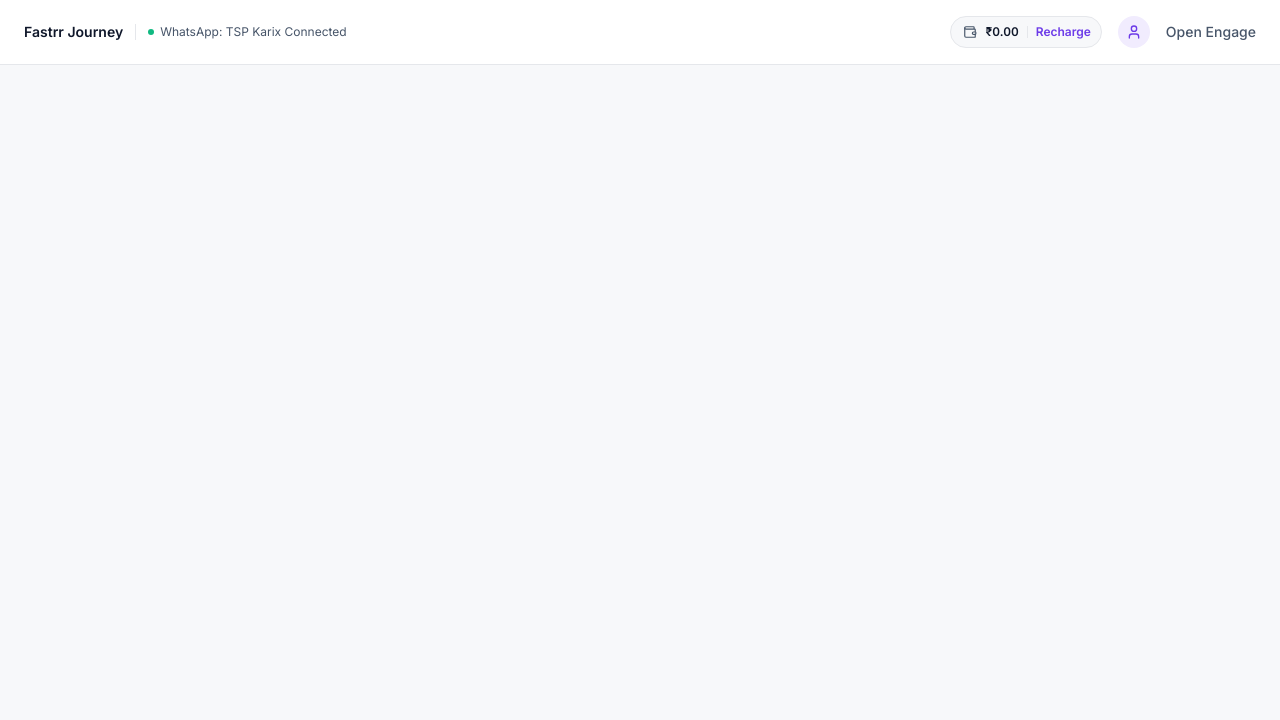
it: JourneyHeader › clicking the wallet pill opens the recharge wallet modal
Click the button with test id "journey-wallet-pill": click(1026, 32) left=950, top=16, right=1102, bottom=48
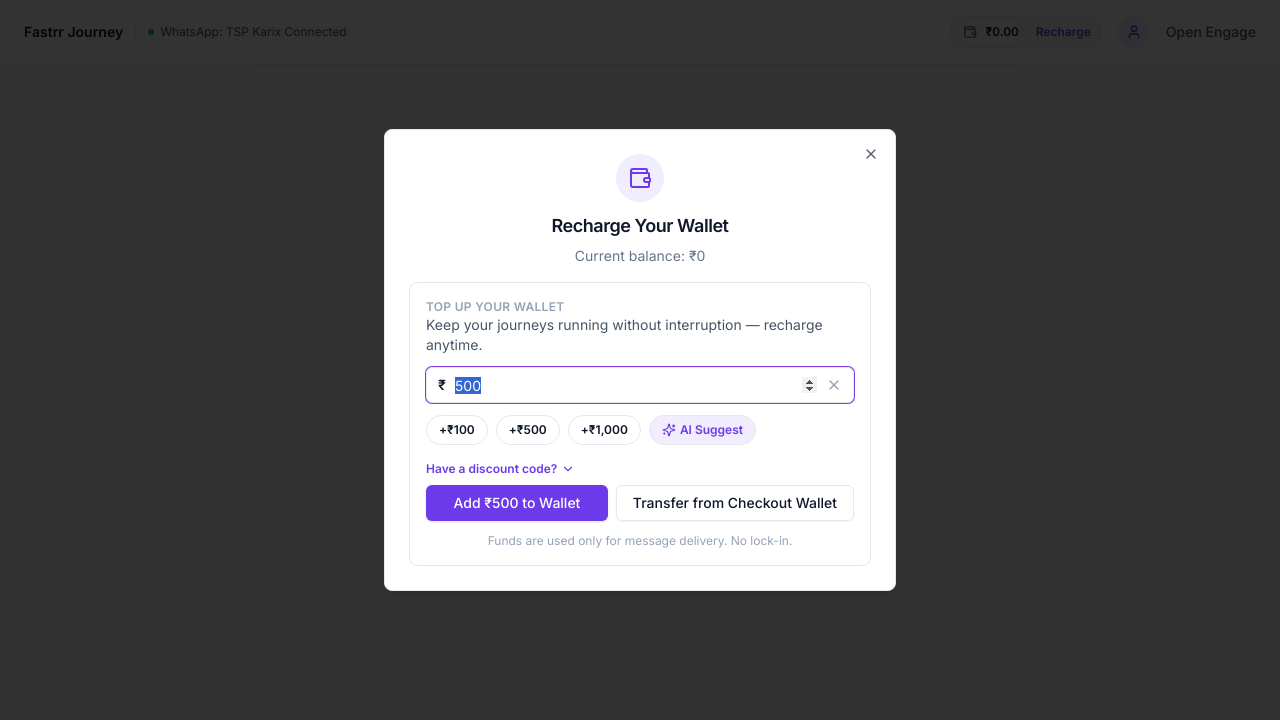
Expected: the dialog with test id "recharge-wallet-modal" is shown, left=384, top=129, right=896, bottom=591
